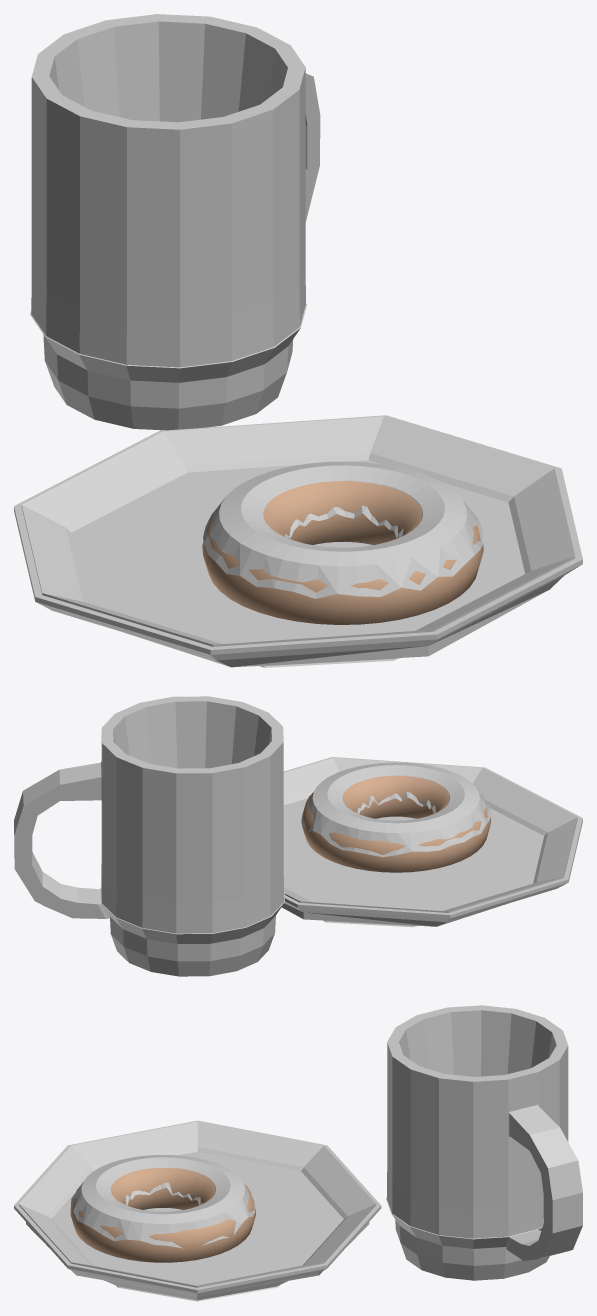
The model's file is tabletop.dae.
The picture shows the model from 3 angles, top to bottom: view 1: azimuth 30°, elevation 25°; view 2: azimuth 150°, elevation 25°; view 3: azimuth 270°, elevation 25°; orthographic projection. The views are drawn at different scales.
Visible parts, largest first — view 1: Mug, Plate, Frosting, Donut; view 2: Mug, Plate, Frosting, Donut; view 3: Mug, Plate, Frosting, Donut.
Boxes of the visible parts, left/top/right/bottom form: Mug: left=30, top=14, right=320, bottom=430; Plate: left=14, top=415, right=582, bottom=667; Frosting: left=203, top=461, right=482, bottom=598; Donut: left=202, top=481, right=483, bottom=624; Mug: left=14, top=696, right=284, bottom=976; Plate: left=282, top=757, right=582, bottom=927; Frosting: left=301, top=762, right=490, bottom=857; Donut: left=301, top=775, right=490, bottom=872; Mug: left=386, top=1005, right=582, bottom=1280; Plate: left=14, top=1120, right=381, bottom=1301; Frosting: left=71, top=1155, right=255, bottom=1248; Donut: left=70, top=1167, right=255, bottom=1262.
Size of what is drawn, in the model's own units: 2.94 by 3.96 by 1.8.
